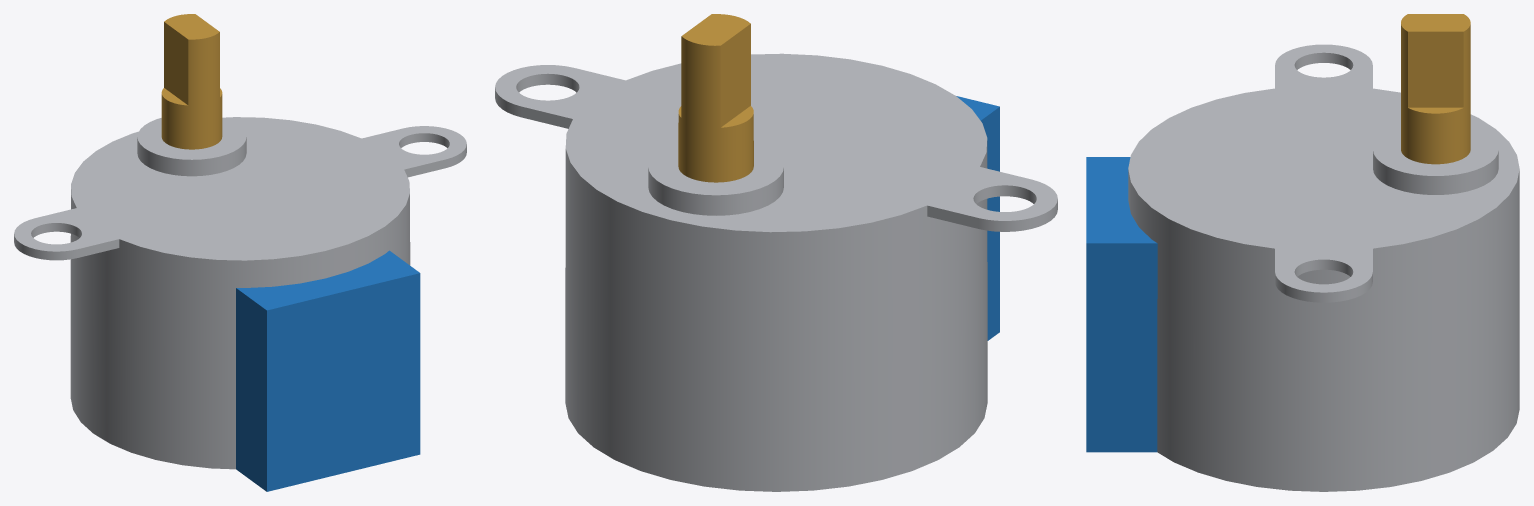
The model's file is motor_28byj48.glb.
3 views of the same model, side by side, from view 1: azimuth 30°, elevation 25°; view 2: azimuth 150°, elevation 25°; view 3: azimuth 270°, elevation 25° (orthographic). The views are drawn at different scales.
Visible parts, largest first — view 1: corpo, tampa, eixo; view 2: corpo, eixo, tampa; view 3: corpo, tampa, eixo.
Boxes of the visible parts, box(x1,y1,x2,y2) form: corpo: box(14, 117, 466, 469); tampa: box(236, 250, 420, 491); eixo: box(161, 14, 222, 149); corpo: box(495, 53, 1057, 491); eixo: box(678, 14, 753, 182); tampa: box(956, 96, 999, 340); corpo: box(1128, 44, 1519, 491); tampa: box(1086, 157, 1157, 452); eixo: box(1401, 14, 1470, 164).
Bounding box in the file's own units: 42 × 30.5 × 31.
